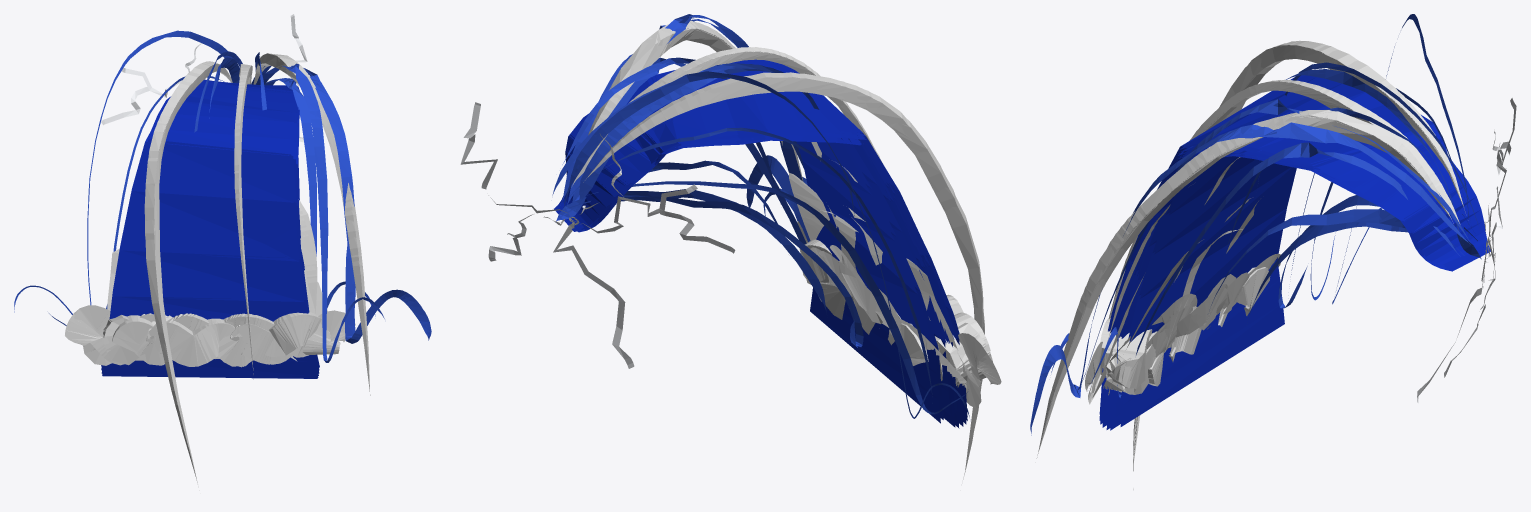
Rendered from HoleOpeningLoop.fbx.
3 renders of one model, left to right at view 1: azimuth 30°, elevation 25°; view 2: azimuth 150°, elevation 25°; view 3: azimuth 270°, elevation 25°, orthographic. The views are drawn at different scales.
Parts seen in each view (by area): view 1: HoleOpenLoop; view 2: HoleOpenLoop; view 3: HoleOpenLoop.
Boxes of the visible parts, box(x1,y1,x2,y2) form: HoleOpenLoop: box(14, 14, 431, 483); HoleOpenLoop: box(460, 14, 1001, 479); HoleOpenLoop: box(1030, 14, 1516, 489).
Size of the model in its own units: 0.2694 by 0.2861 by 0.2445.
